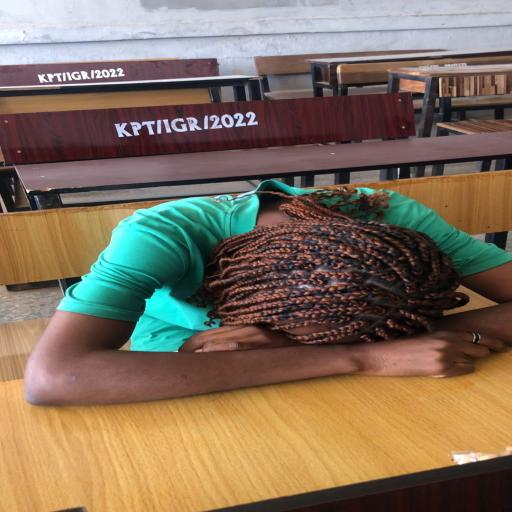Sleeping: (23, 180, 512, 407)
